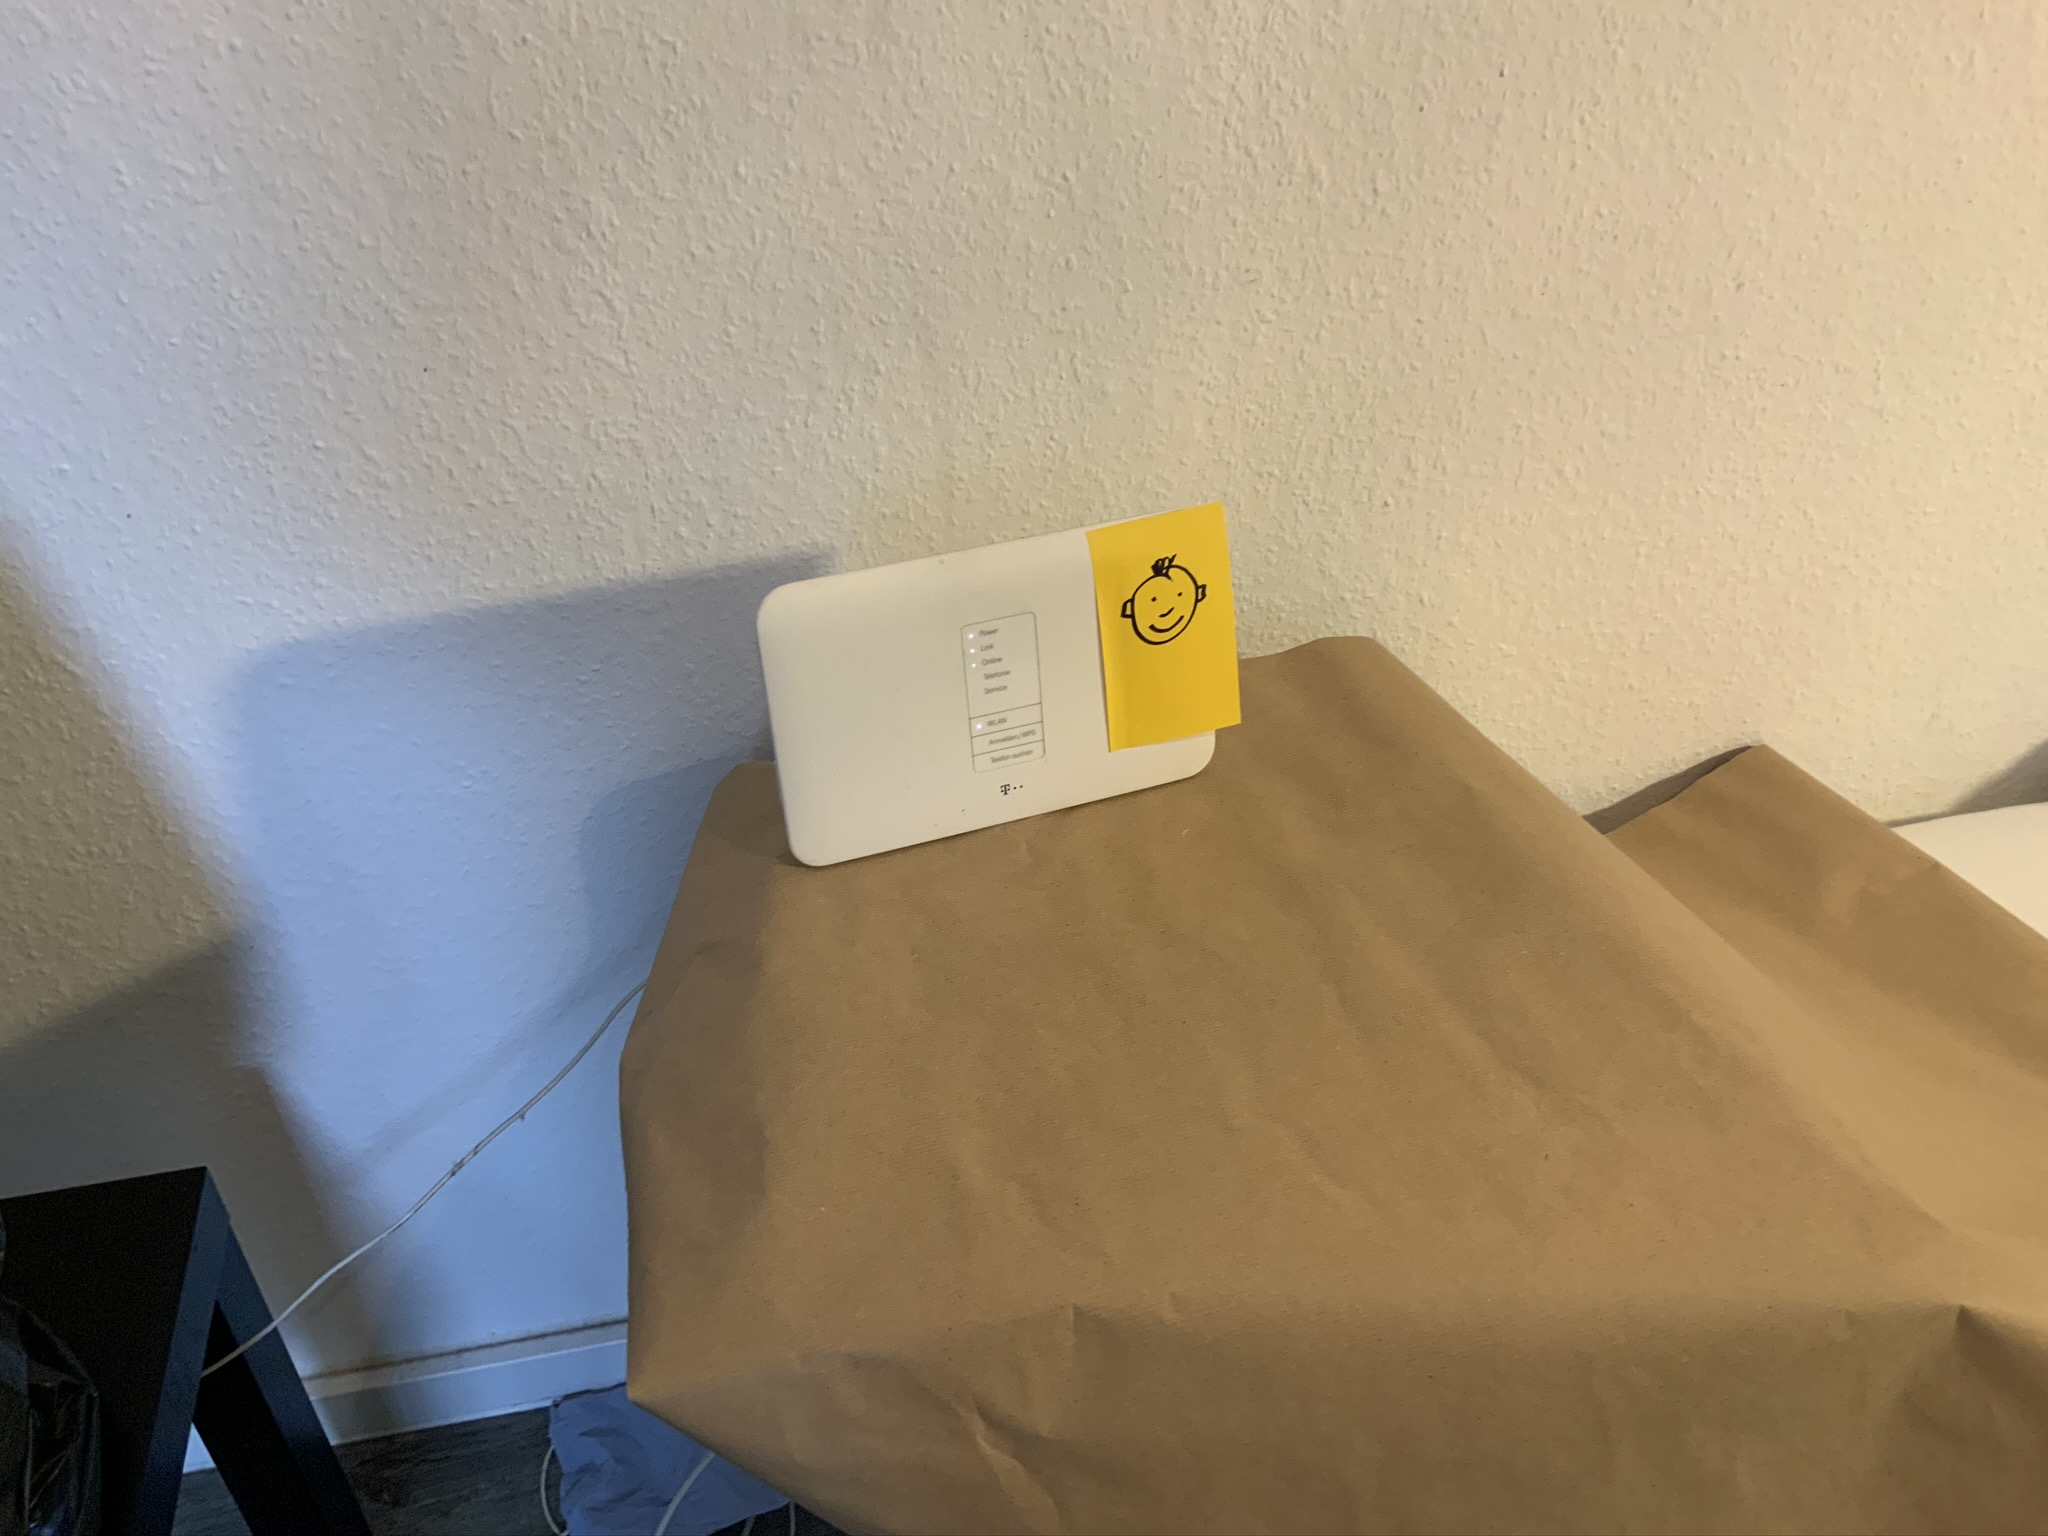router: (751, 497, 1222, 878)
